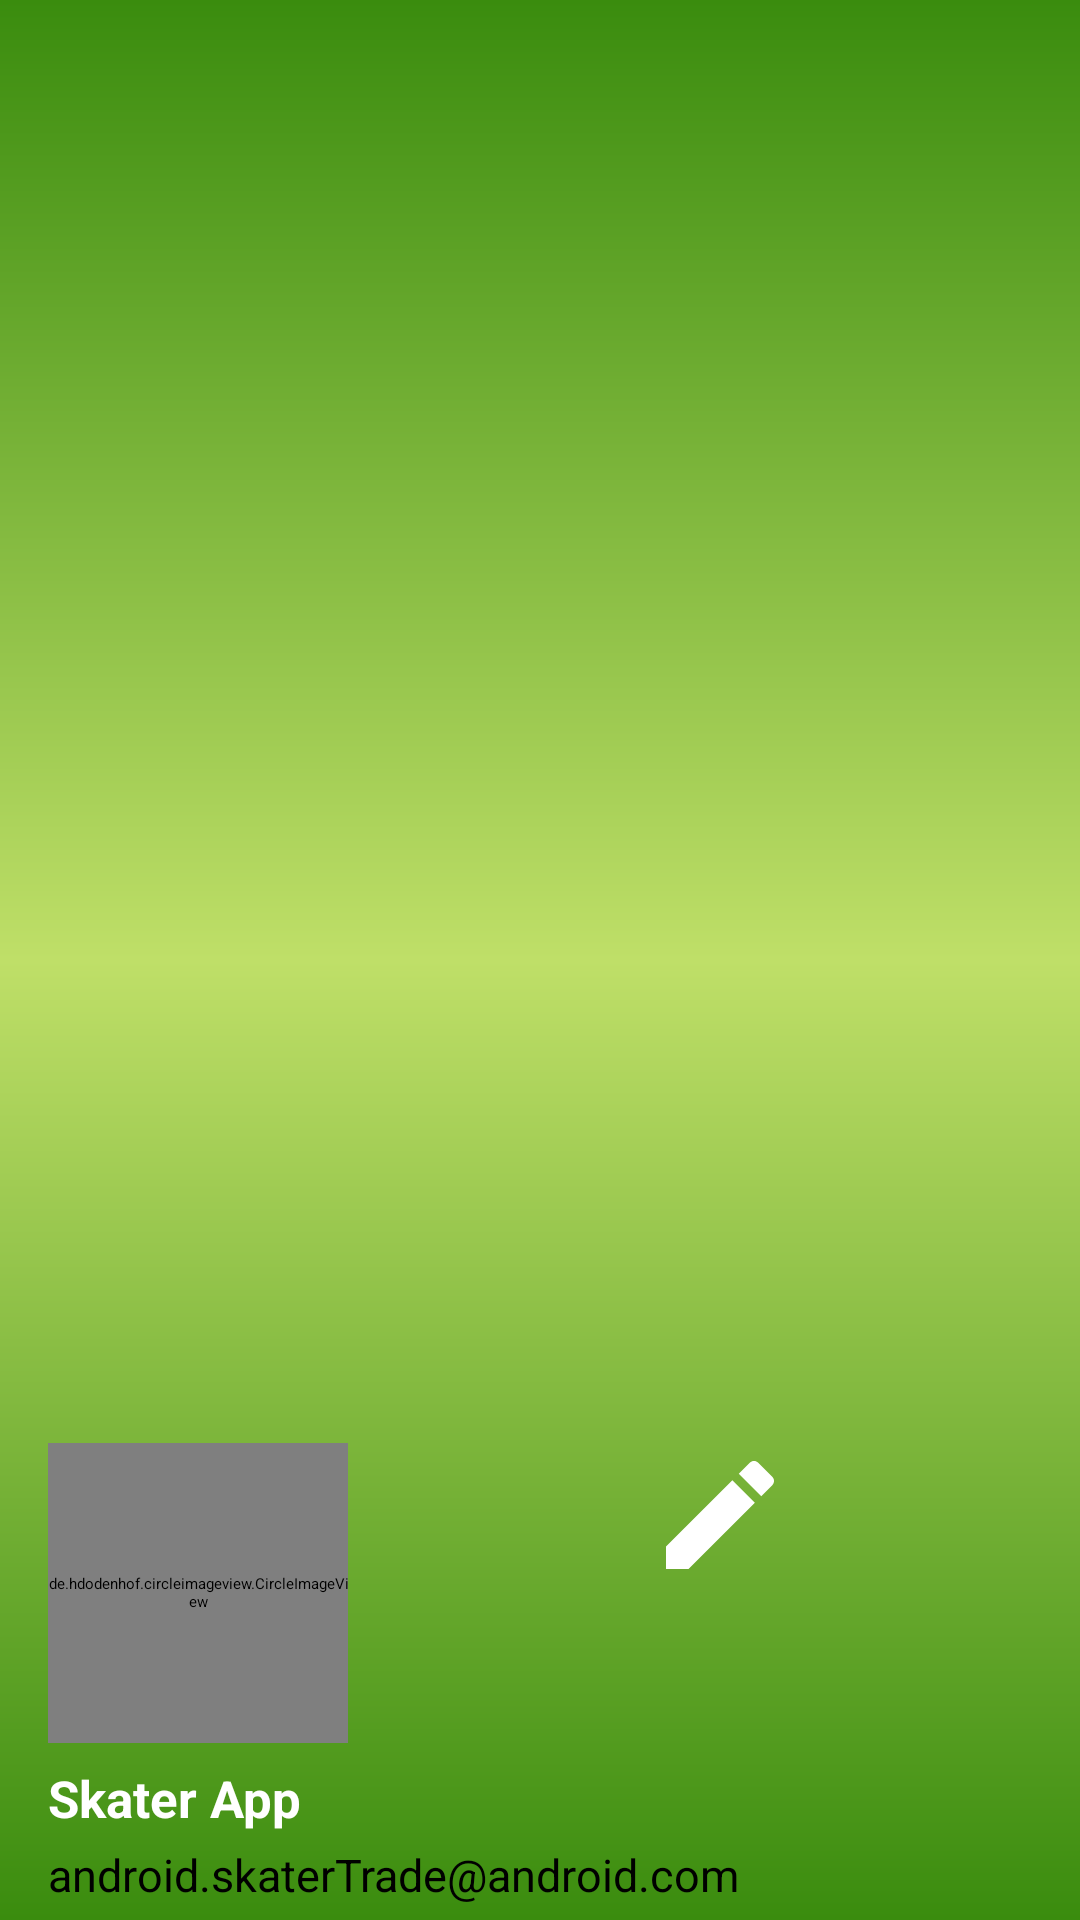

Named icons in this screenshot (1080 x 1920) and their bounding boxes, (x1, y1, x2, y2):
trocar imagem: (648, 1461, 792, 1587)
